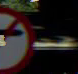Don't turn right: (1, 6, 36, 68)
